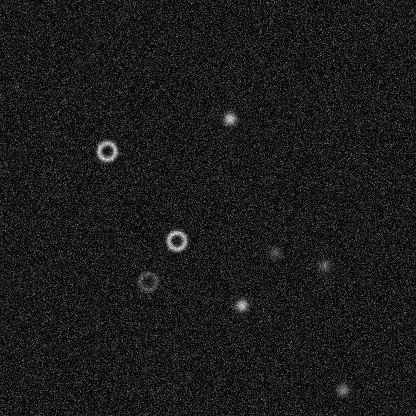Ring: (135, 269, 159, 293), (94, 138, 118, 162), (164, 228, 188, 252)
Spot: (334, 381, 350, 397), (233, 297, 249, 313), (316, 257, 332, 273), (221, 110, 237, 126), (266, 244, 282, 260)
